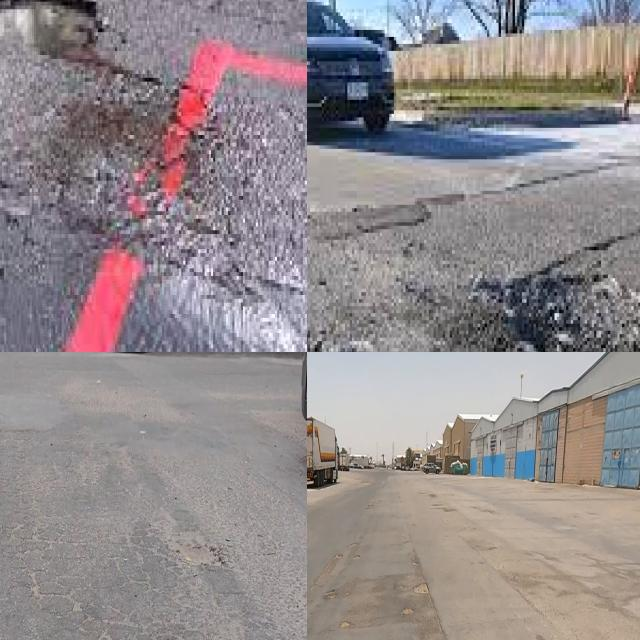Pothole: (471, 250, 640, 352), (347, 577, 389, 631), (178, 539, 226, 570), (414, 585, 429, 593), (402, 609, 414, 616), (340, 623, 350, 629)
